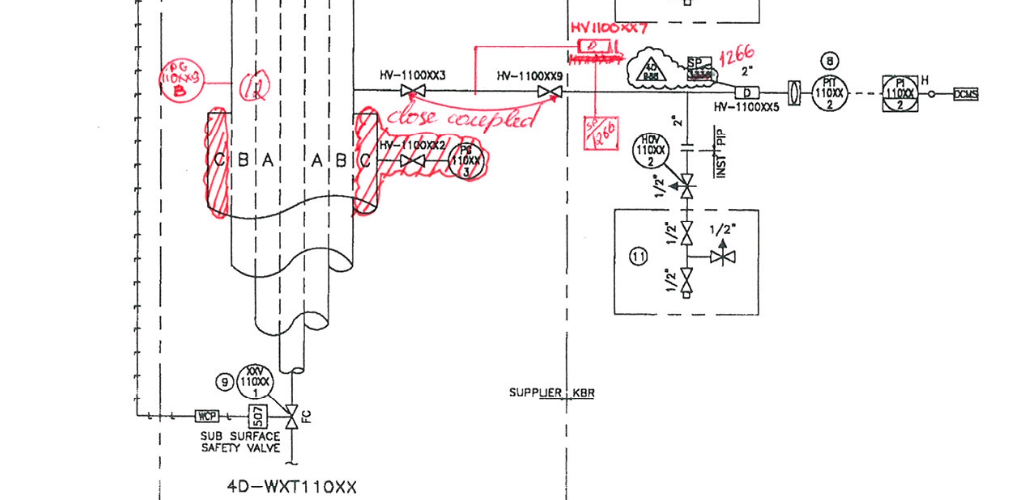Instrument: (628, 128, 672, 172), (811, 73, 853, 115), (235, 360, 274, 401)
Instrument-square: (876, 71, 921, 114)
